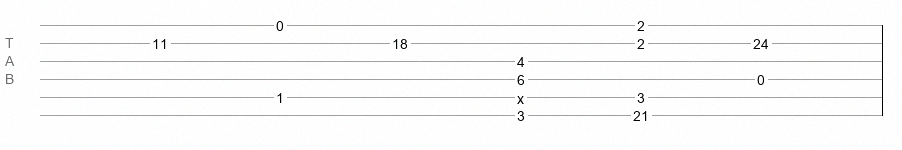0: (276, 18, 284, 28), (757, 72, 765, 82)
1: (276, 90, 284, 100)
11: (152, 36, 168, 46)
18: (392, 36, 408, 46)
2: (637, 18, 645, 28), (637, 36, 645, 46)
21: (633, 108, 649, 118)
24: (753, 36, 769, 46)
3: (517, 108, 525, 118), (637, 90, 645, 100)
4: (517, 54, 525, 64)
6: (517, 72, 525, 82)
x: (517, 91, 524, 99)
